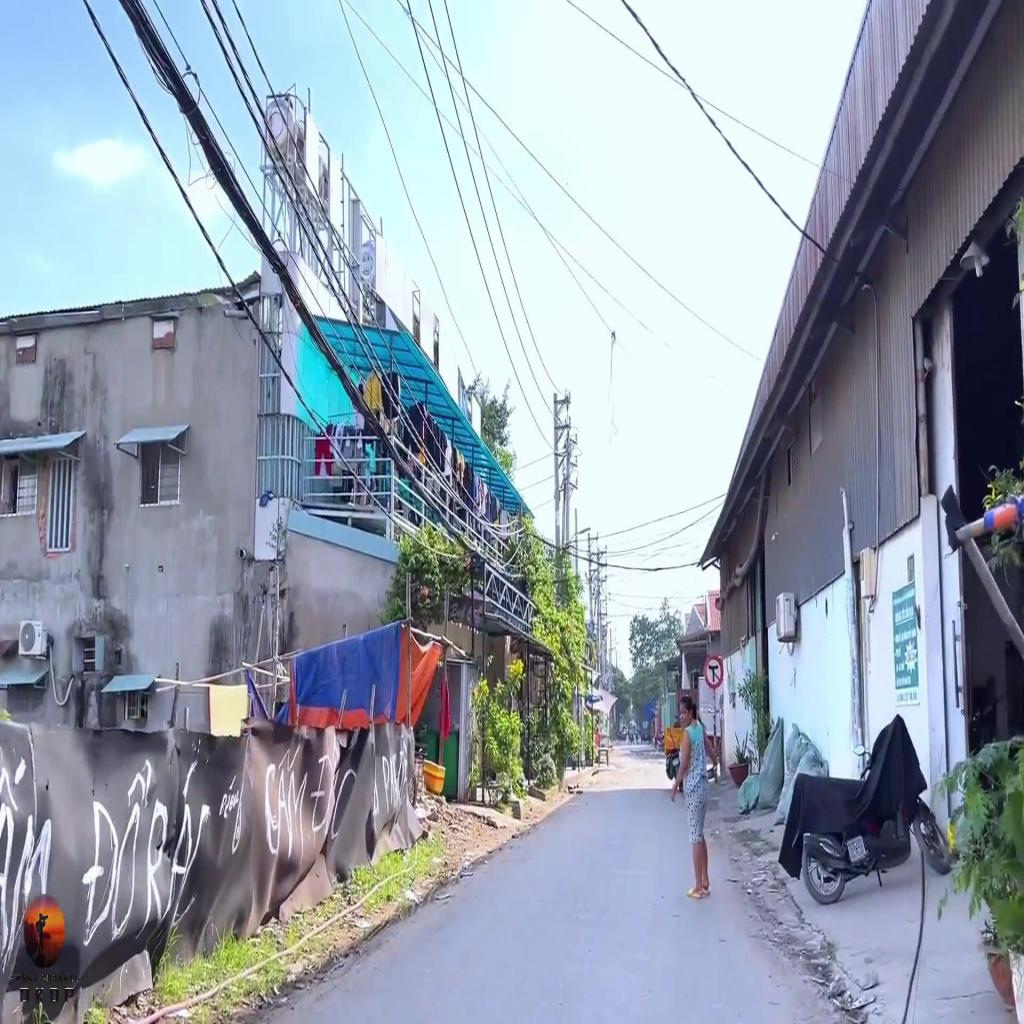cam_re_trai_va_phai: (706, 654, 724, 688)
